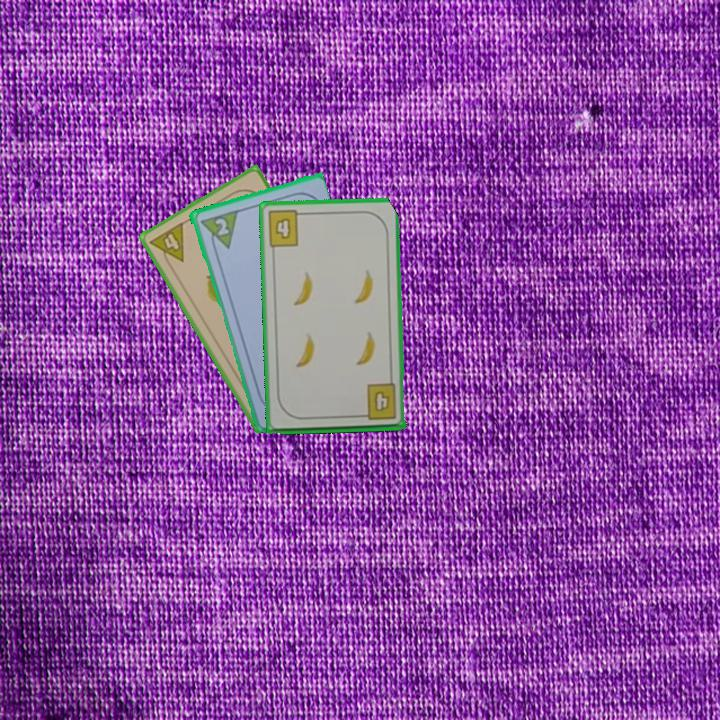2p: (211, 214, 232, 238)
4b: (264, 207, 308, 250), (356, 381, 399, 423)
4p: (146, 218, 187, 271)
